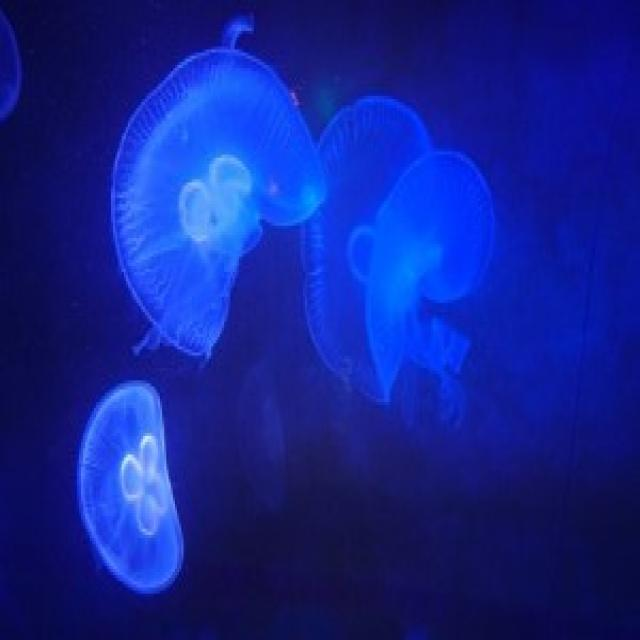Jellyfish: (111, 32, 323, 364), (364, 143, 507, 414), (308, 92, 440, 384), (74, 381, 189, 599)
